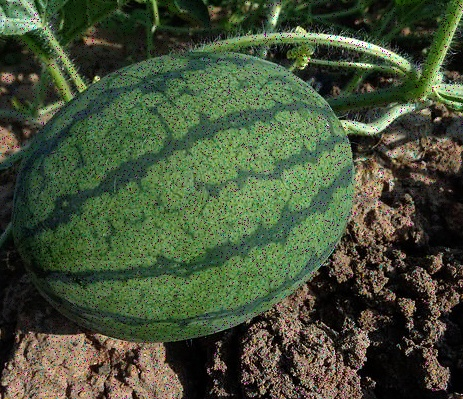watermelon: (12, 42, 352, 340)
